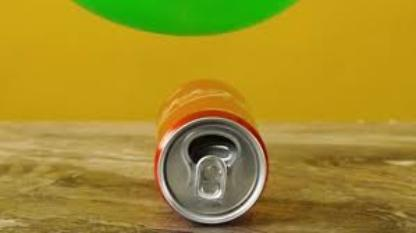Can: (153, 76, 271, 228)
